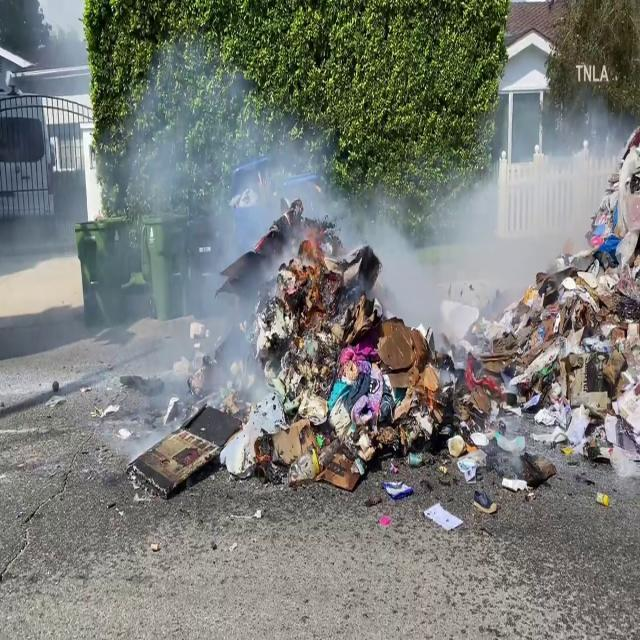Smoke: (65, 40, 352, 418), (378, 74, 628, 349)
